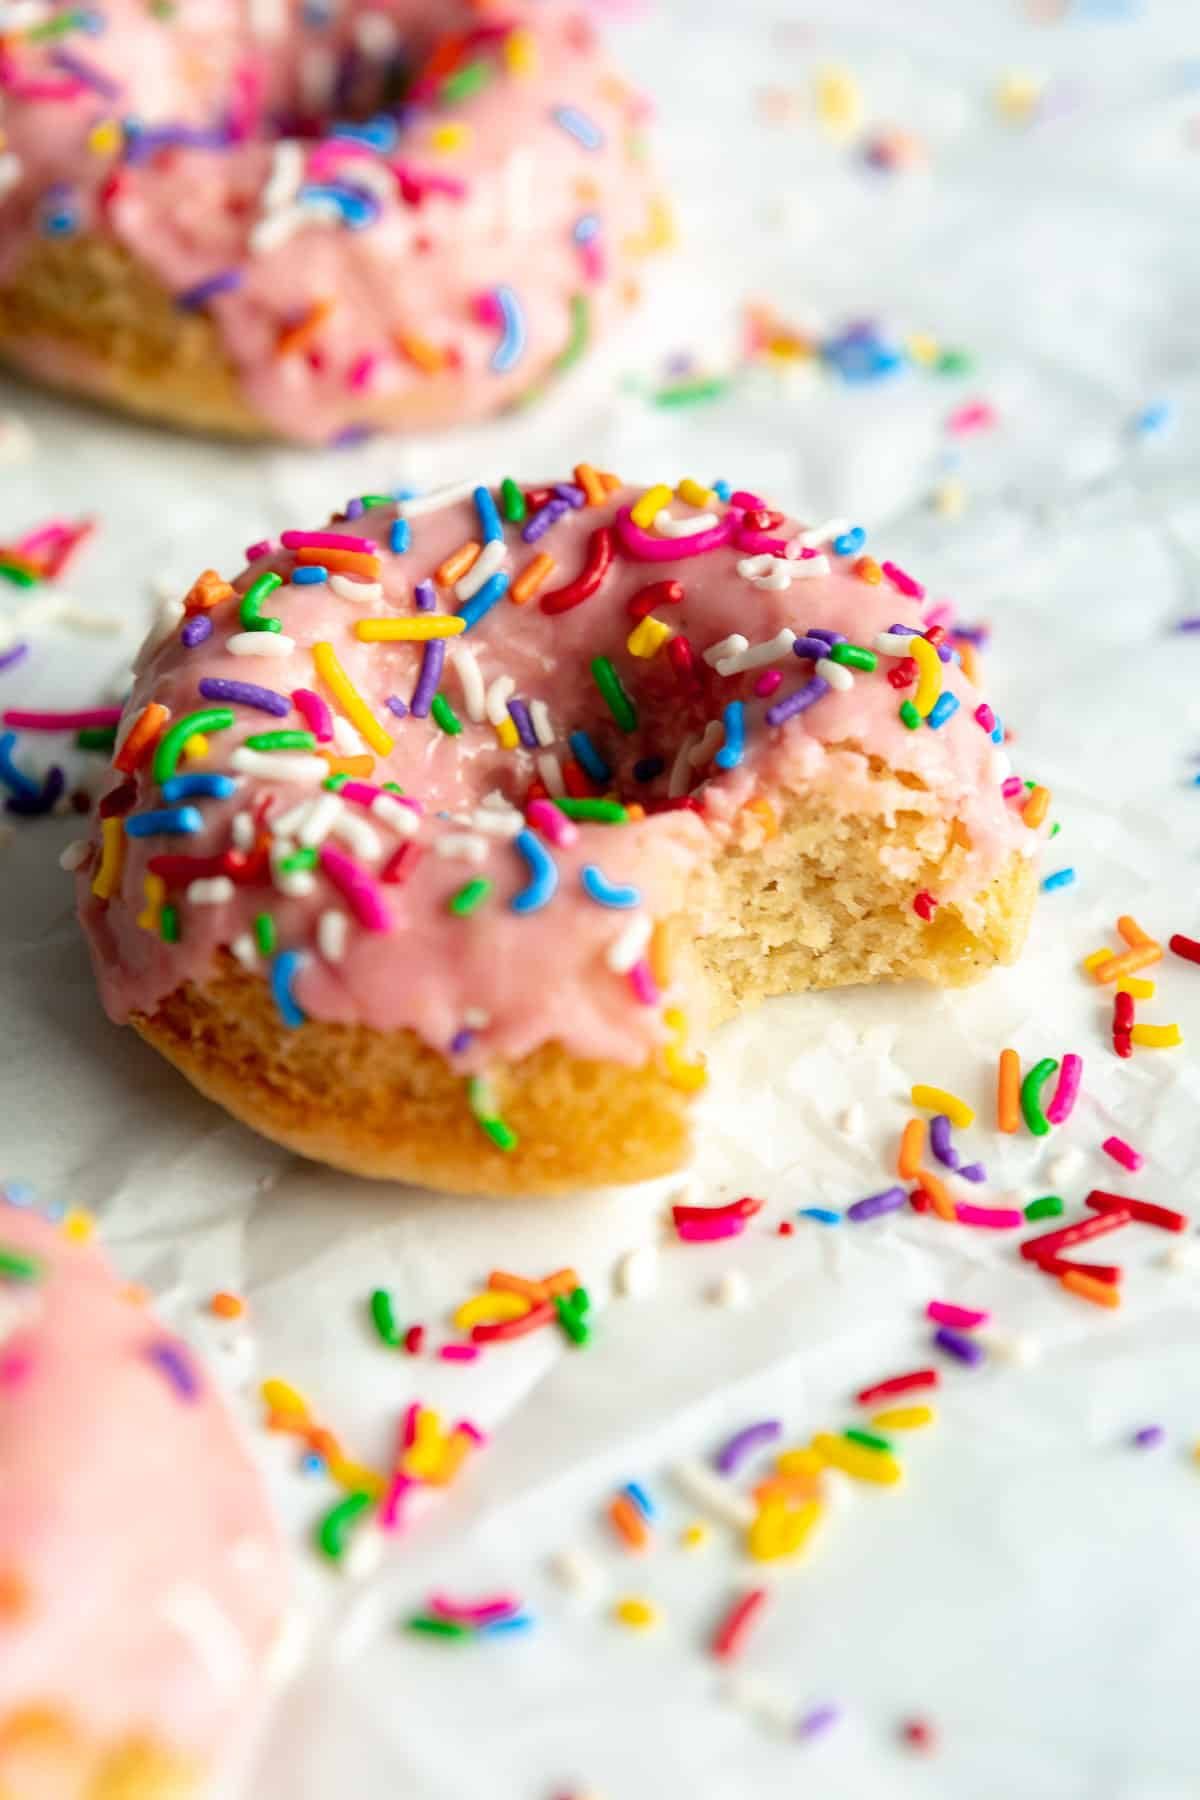donut: (42, 441, 1105, 1233)
